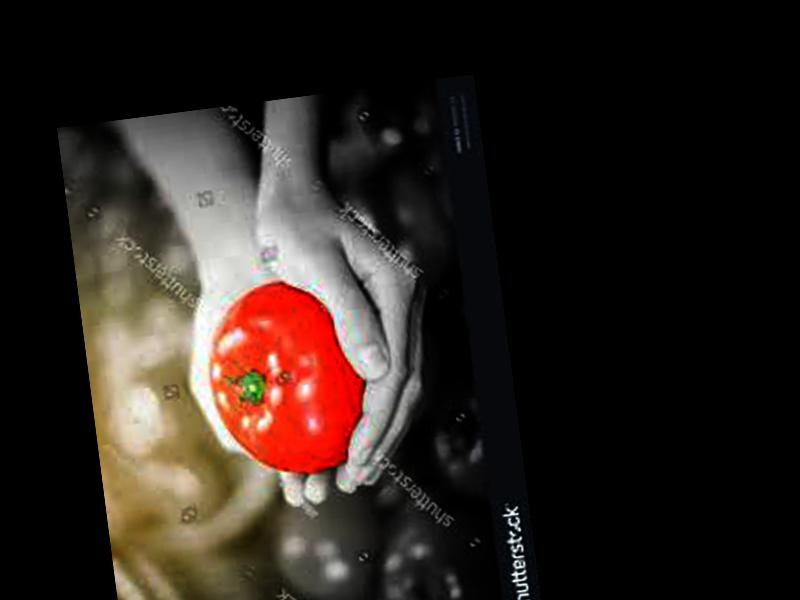Tomato: (199, 273, 374, 483)
